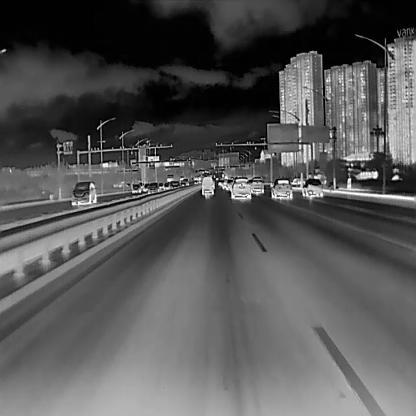car: (70, 181, 96, 204), (270, 178, 292, 199), (231, 176, 251, 199), (301, 178, 323, 197), (250, 177, 264, 194), (200, 176, 213, 194), (291, 176, 304, 188), (148, 182, 158, 193), (131, 182, 141, 192), (165, 173, 174, 181), (163, 181, 169, 190), (227, 180, 232, 190), (179, 173, 183, 185), (222, 180, 226, 190)
